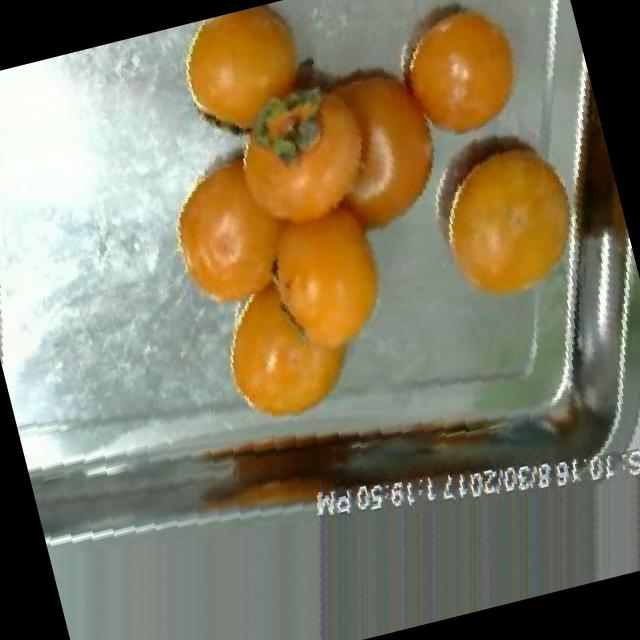Fruit: (389, 83, 615, 340), (128, 106, 344, 343), (190, 252, 378, 448), (357, 0, 557, 171), (161, 0, 343, 169)
